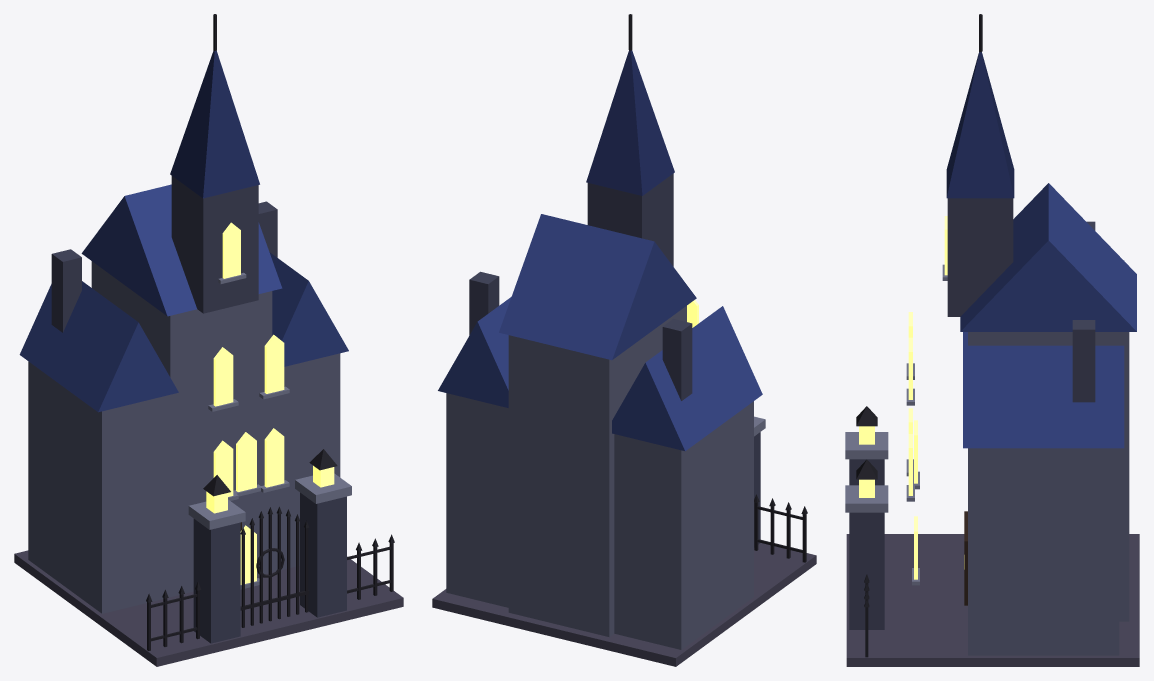
File: ec2-gated-manor.glb
3 views of the same model, side by side, from view 1: azimuth 30°, elevation 25°; view 2: azimuth 150°, elevation 25°; view 3: azimuth 270°, elevation 25° (orthographic). The views are drawn at different scales.
Visible parts, largest first — view 1: cw_paint, cw_glow; view 2: cw_paint; view 3: cw_paint, cw_glow.
Boxes of the visible parts, x1,y1,x2,y2 form: cw_paint: [14, 14, 403, 666]; cw_glow: [206, 222, 334, 584]; cw_paint: [432, 14, 816, 666]; cw_paint: [845, 14, 1139, 666]; cw_glow: [859, 216, 964, 579].
Size of the model in its own units: 5.9 by 12.9 by 5.83.
